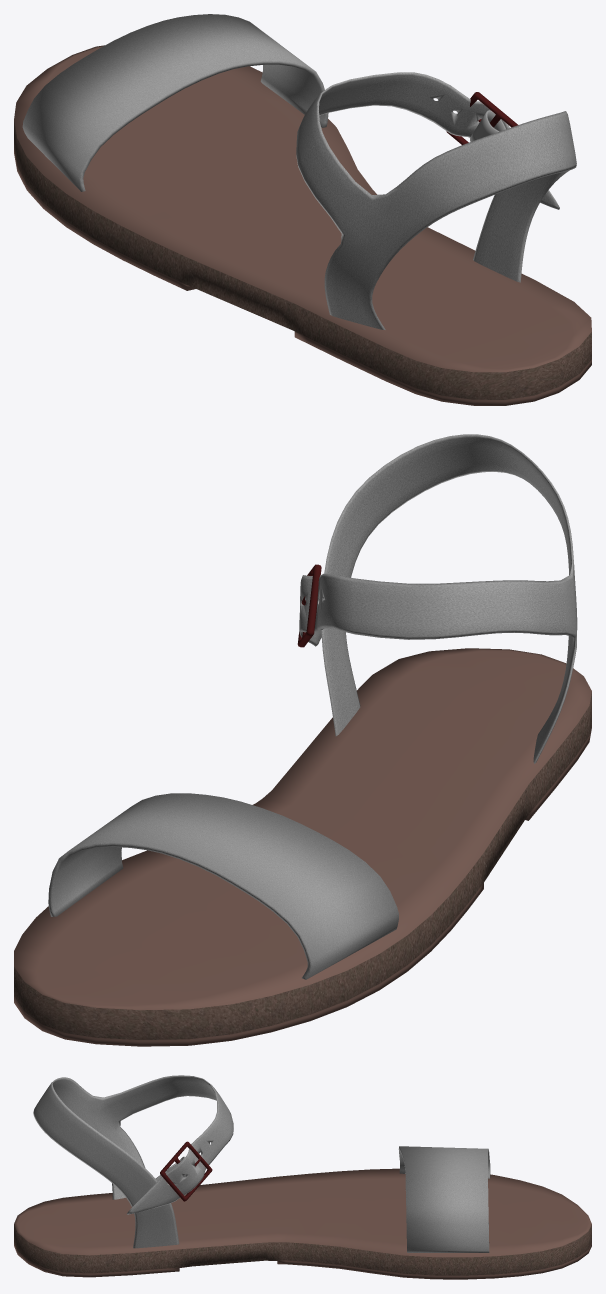
File: shoe_2.glb
The picture shows the model from 3 angles, top to bottom: view 1: azimuth 30°, elevation 25°; view 2: azimuth 150°, elevation 25°; view 3: azimuth 270°, elevation 25°; orthographic projection. The views are drawn at different scales.
Visible parts, largest first — view 1: cba16fcda2614105b6dc4e08d2d4d080; view 2: cba16fcda2614105b6dc4e08d2d4d080; view 3: cba16fcda2614105b6dc4e08d2d4d080.
Part boxes in pixels (left/top/right/bottom): cba16fcda2614105b6dc4e08d2d4d080: left=14, top=14, right=591, bottom=405; cba16fcda2614105b6dc4e08d2d4d080: left=14, top=434, right=591, bottom=1046; cba16fcda2614105b6dc4e08d2d4d080: left=14, top=1075, right=591, bottom=1279.
Size of the model in its own units: 0.3734 by 0.3171 by 1.
6 materials, 5 textured.
